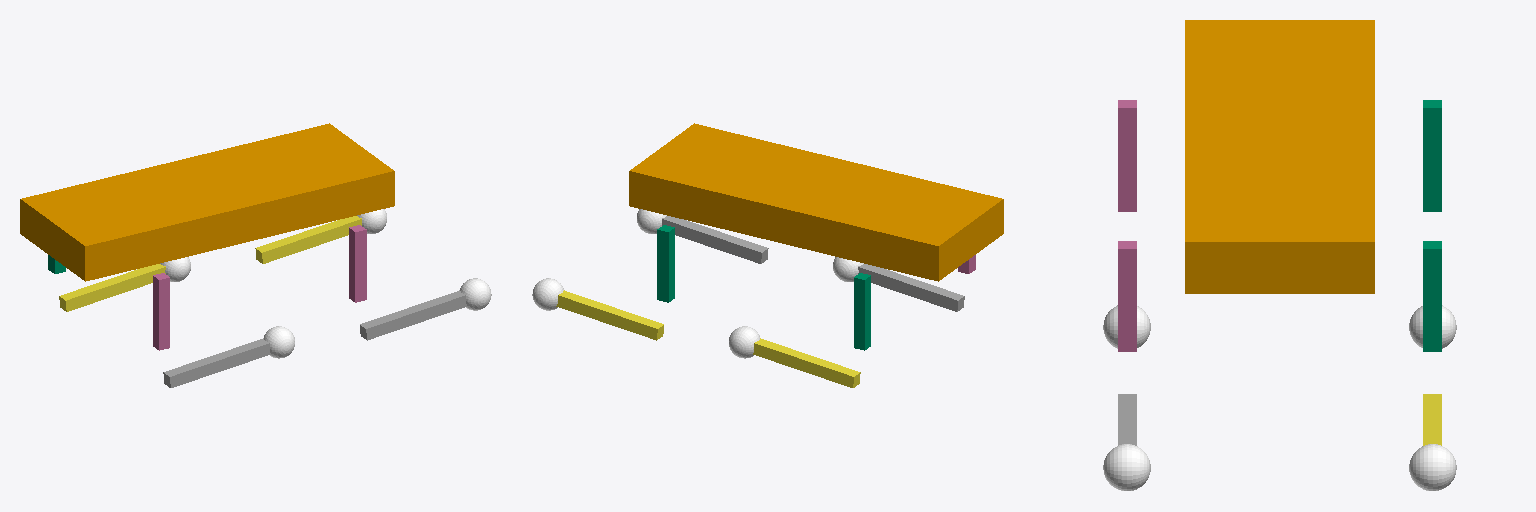
The robot description file, URDF, robot "Xiaoli":
<?xml version="1.0"?>  
<robot name="Xiaoli">   
  <link name="TORSO">  
    <inertial>
      <origin xyz="0 0 0" rpy="0 0 0" />
      <mass value="5.6056" /> 
      <inertia ixx="0.02456" ixy="0" ixz="0" iyy="0.05518" iyz="0" izz="0.07016" /> 
    </inertial> 
    <!-- <visual> 
      <origin xyz="0 0 0" rpy="-0 0 0" /> 
      <geometry> 
        <mesh filename="../meshes/torso.STL" /> 
      </geometry> 
      <material name=""> 
        <color rgba="1 1 1 1" /> 
      </material> 
    </visual>  -->
    <!-- <collision> 
      <origin xyz="0 0 0" rpy="0 0 0" /> 
      <geometry> 
        <mesh filename="../meshes/torso.STL" /> 
      </geometry> 
    </collision>  -->

    <visual>
      <geometry>
        <box size="0.55 0.2 0.06"/>
      </geometry>
      <origin xyz="0 0 0" rpy="0 0 0"/>
    </visual>
    <collision>
      <geometry>
        <box size="0.55 0.2 0.06"/>
      </geometry>
      <origin xyz="0 0 0" rpy="0 0 0"/>
    </collision>

  </link> 
  

 
  <link name="FL_HIP">  
    <inertial>
      <origin xyz="-0.010579    -0.011358    0.00048546" rpy="0 0 0" />
      <mass value="0.550" />
      <inertia ixx="0.0003949" ixy="0" ixz="0" iyy="0.0004028" iyz="0" izz="0.0004472" />
    </inertial>
    <!-- <visual>
      <origin xyz="0 0 0" rpy="0 0 0" />
      <geometry>
        <mesh filename="../meshes/fl_hip.STL" />
      </geometry>
      <material name="">
        <color rgba="1 1 1 1" />
      </material>
    </visual> -->
    <!-- <collision>
      <origin xyz="0 0 0" rpy="0 0 0" />
      <geometry>
        <mesh filename="../meshes/fl_hip.STL" />
      </geometry>
    </collision> -->
  </link>  
  
  <joint name="FL_HipX_joint" type="revolute">  
    <origin xyz="0.1745 0.062 0" />  
    <parent link="TORSO" />  
    <child link="FL_HIP" />  
    <axis xyz="-1 0 0" />  
    <dynamics damping="0.01" friction="0.03"/> 
    <limit lower="-0.48869" upper="0.48869" effort="20" velocity="30" />  
  </joint>  
  
  <link name="FL_THIGH">  
    <inertial>
      <origin xyz="-0.0052817 -0.014632 -0.042672" rpy="0 0 0" />
      <mass value="0.92" />
      <inertia ixx="0.006136" ixy="0" ixz="0" iyy="0.005306" iyz="0" izz="0.001536" />
    </inertial> 
    <!-- <visual>
      <origin xyz="0 0 0" rpy="0 0 0" />
      <geometry>
        <mesh filename="../meshes/fl_thigh.STL" />
      </geometry>
      <material name="">
        <color rgba="1 1 1 1" />
      </material>
    </visual> -->
    <!-- <collision>
      <origin xyz="0 0 0" rpy="0 0 0" />
      <geometry>
        <mesh filename="../meshes/fl_thigh.STL" />
      </geometry>
    </collision> -->
    <visual>
      <geometry>
        <box size="0.02 0.02 0.12"/>
      </geometry>
      <origin xyz="0 0 -0.08" rpy="0 0 0"/>
    </visual>
    <collision>
      <geometry>
        <box size="0.02 0.02 0.12"/>
      </geometry>
      <origin xyz="0 0 -0.08" rpy="0 0 0"/>
    </collision>
  </link>  
  
  <joint name="FL_HipY_joint" type="revolute">  
    <origin xyz="0 0.0985 0" />  
    <parent link="FL_HIP" />  
    <child link="FL_THIGH" />  
    <axis xyz="0 -1 0" />  
    <dynamics damping="0.01" friction="0.03"/> 
    <limit lower="-3.4907" upper="0.314" effort="20" velocity="30" />  
  </joint>  
  
  <link name="FL_SHANK">  
    <inertial>
      <origin xyz="0.0064794 -1.4535E-06 -0.12157" rpy="0 0 0" />
      <mass value="0.1729" />
      <inertia ixx="0.00089039" ixy="0"  ixz="0"  iyy="0.00090672" iyz="0" izz="3.1266E-05" />
    </inertial>
    <!-- <visual>  
    <origin rpy="0 0 0" xyz="0.0 0.0 0.0"/>  
      <geometry>  
        <mesh filename="../meshes/fl_shank_collision.obj" />  
      </geometry>  
    </visual> -->
    <!-- <collision>
      <origin xyz="0 0 0" rpy="0 0 0" />
      <geometry>
        <mesh filename="../meshes/fl_shank_collision.obj" />
      </geometry>
    </collision> -->

    <visual>
      <geometry>
        <box size="0.02 0.02 0.18"/>
      </geometry>
      <origin xyz="0 0 -0.1" rpy="0 0 0"/>
    </visual>
    <collision>
      <geometry>
        <box size="0.02 0.02 0.18"/>
      </geometry>
      <origin xyz="0 0 -0.1" rpy="0 0 0"/>
    </collision>
  </link>  
  
  <joint name="FL_Knee_joint" type="revolute">  
    <origin xyz="0 0 -0.20" />  
    <parent link="FL_THIGH" />  
    <child link="FL_SHANK" />  
    <axis xyz="0 -1 0" />  
    <dynamics damping="0.01" friction="0.03"/> 
    <limit lower="0.6021" upper="2.7227" effort="30" velocity="20" />  
  </joint>  
  
  <link name="FL_FOOT">  
    <inertial>  
      <mass value="0.06" /> 
      <inertia ixx="1E-12" ixy="0" ixz="0" iyy="1E-12" iyz="0" izz="1E-12" />  
    </inertial>  
    <collision>  
      <geometry>  
        <sphere radius="0.03"/>  
      </geometry>  
    </collision>  
        <visual>
      <origin rpy="1.57079632679 0 0" xyz="0 0 0"/>
      <geometry>
        <sphere radius="0.025"/>
      </geometry>
      <material name="">
        <color rgba="1 1 1 1" />
      </material>
    </visual>
  </link>  
  
  <joint name="FL_Ankle" type="fixed" dont_collapse="true">  
    <origin xyz="0 0 -0.21"/>  
    <parent link="FL_SHANK" />  
    <child link="FL_FOOT" />  
  </joint>  
  
  <link name="FR_HIP">  
    <inertial>
      <origin xyz="-0.010579 0.011358 0.00048546" rpy="0 0 0" />
      <mass value="0.550" />
      <inertia ixx="0.0003949" ixy="0" ixz="0" iyy="0.0004028" iyz="0" izz="0.0004472" />
    </inertial>
    <!-- <visual>
      <origin xyz="0 0 0" rpy="0 0 0" />
      <geometry>
        <mesh filename="../meshes/fr_hip.STL" />
      </geometry>
      <material name="">
        <color rgba="1 1 1 1" />
      </material>
    </visual> -->
    <!-- <collision>
      <origin xyz="0 0 0" rpy="0 0 0" />
      <geometry>
        <mesh filename="../meshes/fr_hip.STL" />
      </geometry>
    </collision> -->
  </link>  
  
  <joint name="FR_HipX_joint" type="revolute">  
    <origin xyz="0.1745 -0.062 0" />  
    <parent link="TORSO" />  
    <child link="FR_HIP" />  
    <axis xyz="-1 0 0" />  
    <dynamics damping="0.01" friction="0.03"/> 
    <limit lower="-0.48869" upper="0.48869" effort="20" velocity="30" />  
  </joint>  
  
  <link name="FR_THIGH">  
    <inertial>
      <origin xyz="-0.0039245 0.025256 -0.025146" rpy="0 0 0" />
      <mass value="0.92"/>
      <!-- inertia ixx="0.00433" ixy="0.00001" ixz="0.00034" iyy="0.00403"  iyz="-0.0000186" izz="0.00143" -->
      <inertia ixx="0.006136" ixy="0" ixz="0" iyy="0.005306" iyz="0" izz="0.001536" />
    </inertial>
    <!-- <visual>
      <origin xyz="0 0 0" rpy="0 0 0" />
      <geometry>
        <mesh filename="../meshes/fr_thigh.STL" />
      </geometry>
      <material name="">
        <color rgba="1 1 1 1" />
      </material>
    </visual> -->
    <!-- <collision>
      <origin xyz="0 0 0" rpy="0 0 0" />
      <geometry>
        <mesh filename="../meshes/fr_thigh.STL" />
      </geometry>
    </collision> -->
    <visual>
      <geometry>
        <box size="0.02 0.02 0.12"/>
      </geometry>
      <origin xyz="0 0 -0.08" rpy="0 0 0"/>
    </visual>
    <collision>
      <geometry>
        <box size="0.02 0.02 0.12"/>
      </geometry>
      <origin xyz="0 0 -0.08" rpy="0 0 0"/>
    </collision>

  </link>  
  
  <joint name="FR_HipY_joint" type="revolute">  
    <origin xyz="0 -0.0985 0" />  
    <parent link="FR_HIP" />  
    <child link="FR_THIGH" />  
    <axis xyz="0 -1 0" />  
    <dynamics damping="0.01" friction="0.03"/> 
    <limit lower="-3.4907" upper="0.314" effort="20" velocity="30" />  
  </joint>  
  
  <link name="FR_SHANK">  
    <inertial>
      <origin xyz="0.0064794 -1.4552E-06 -0.12157" rpy="0 0 0" />
      <mass value="0.1729" />
      <inertia ixx="0.00089039" ixy="0"  ixz="0"  iyy="0.00090672" iyz="0" izz="3.1266E-05" />
    </inertial>
    <!-- <visual>
      <origin xyz="0 0 0" rpy="0 0 0" />
      <geometry>
        <mesh filename="../meshes/fr_shank_collision.obj" />
      </geometry>
      <material name="">
        <color rgba="1 1 1 1" />
      </material>
    </visual> -->
    <!-- <collision>
      <origin xyz="0 0 0" rpy="0 0 0" />
      <geometry>
        <mesh filename="../meshes/fr_shank_collision.obj" />
      </geometry>
    </collision> -->

    <visual>
      <geometry>
        <box size="0.02 0.02 0.18"/>
      </geometry>
      <origin xyz="0 0 -0.1" rpy="0 0 0"/>
    </visual>
    <collision>
      <geometry>
        <box size="0.02 0.02 0.18"/>
      </geometry>
      <origin xyz="0 0 -0.1" rpy="0 0 0"/>
    </collision>
  </link>  
  
  <joint name="FR_Knee_joint" type="revolute">  
    <origin xyz="0 0 -0.20" />  
    <parent link="FR_THIGH" />  
    <child link="FR_SHANK" />  
    <axis xyz="0 -1 0" />  
    <dynamics damping="0.01" friction="0.03"/> 
    <limit lower="0.6021" upper="2.7227" effort="30" velocity="20" />  
  </joint>  
  
  <link name="FR_FOOT">  
    <inertial>  
      <mass value="0.06" /> 
      <inertia ixx="1E-12" ixy="0" ixz="0" iyy="1E-12" iyz="0" izz="1E-12" />  
    </inertial>  
    <collision>  
      <geometry>  
        <sphere radius="0.03"/>  
      </geometry>  
    </collision>  
    <visual>
      <origin rpy="1.57079632679 0 0" xyz="0 0 0"/>
      <geometry>
        <sphere radius="0.025"/>
      </geometry>
      <material name="">
        <color rgba="1 1 1 1" />
      </material>
    </visual>
  </link>  
  
  <joint name="FR_Ankle" type="fixed" dont_collapse="true">  
    <origin xyz="0 0 -0.21"/>  
    <parent link="FR_SHANK" />  
    <child link="FR_FOOT" />  
  </joint>  
  
  <link name="HL_HIP">  
    <inertial>
      <origin xyz="0.010905 -0.012636 0.001051" rpy="0 0 0" />
      <mass value="0.550" />
      <inertia ixx="0.0003949" ixy="0" ixz="0" iyy="0.0004028" iyz="0" izz="0.0004472" />
    </inertial>
    <!-- <visual>
      <origin xyz="0 0 0" rpy="0 0 0" />
      <geometry>
        <mesh filename="../meshes/hl_hip.STL" />
      </geometry>
      <material name="">
        <color rgba="1 1 1 1" />
      </material>
    </visual> -->
    <!-- <collision>
      <origin xyz="0 0 0" rpy="0 0 0" />
      <geometry>
        <mesh filename="../meshes/hl_hip.STL" />
      </geometry>
    </collision>  -->
  </link>  
  
  <joint name="HL_HipX_joint" type="revolute">  
    <origin xyz="-0.1745 0.062 0" />  
    <parent link="TORSO" />  
    <child link="HL_HIP" />  
    <axis xyz="-1 0 0" />  
    <dynamics damping="0.01" friction="0.03"/> 
    <limit lower="-0.48869" upper="0.48869" effort="20" velocity="30" />  
  </joint>  
  
  <link name="HL_THIGH">  
    <inertial>
      <origin xyz="-0.0057137 -0.014631 -0.042453" rpy="0 0 0" />
      <mass value="0.92" />
      <inertia ixx="0.006136" ixy="0" ixz="0" iyy="0.005306" iyz="0" izz="0.001536" />
    </inertial>
    <!-- <visual>
      <origin xyz="0 0 0" rpy="0 0 0" />
      <geometry>
        <mesh filename="../meshes/hl_thigh.STL" />
      </geometry>
      <material name="">
        <color rgba="1 1 1 1" />
      </material>
    </visual> -->
    <!-- <collision>
      <origin xyz="0 0 0" rpy="0 0 0" />
      <geometry>
        <mesh filename="../meshes/hl_thigh.+" />
      </geometry>
    </collision>  -->
    <visual>
      <geometry>
        <box size="0.02 0.02 0.12"/>
      </geometry>
      <origin xyz="0 0 -0.08" rpy="0 0 0"/>
    </visual>
    <collision>
      <geometry>
        <box size="0.02 0.02 0.12"/>
      </geometry>
      <origin xyz="0 0 -0.08" rpy="0 0 0"/>
    </collision>

  </link>  
  
  <joint name="HL_HipY_joint" type="revolute">  
    <origin xyz="0 0.0985 0" />  
    <parent link="HL_HIP" />  
    <child link="HL_THIGH" />  
    <axis xyz="0 -1 0" />  
    <dynamics damping="0.01" friction="0.03"/> 
    <limit lower="-3.4907" upper="0.314" effort="20" velocity="30" />  
  </joint>  
  
  <link name="HL_SHANK">  
    <inertial>
      <origin xyz="0.0064794 -1.4558E-06 -0.12157" rpy="0 0 0" />
      <mass value="0.1729" />
      <inertia ixx="0.00089039" ixy="0"  ixz="0"  iyy="0.00090672" iyz="0" izz="3.1266E-05" />
    </inertial>
    <!-- <visual>
      <origin xyz="0 0 0" rpy="0 0 0" />
      <geometry>
        <mesh filename="../meshes/hl_shank_collision.obj" />
      </geometry>
      <material name="">
        <color rgba="1 1 1 1" />
      </material>
    </visual> -->
    <!-- <collision>
      <origin xyz="0 0 0" rpy="0 0 0" />
      <geometry>
        <mesh filename="../meshes/hl_shank_collision.obj" />
      </geometry>
    </collision> -->
    <visual>
      <geometry>
        <box size="0.02 0.02 0.18"/>
      </geometry>
      <origin xyz="0 0 -0.1" rpy="0 0 0"/>
    </visual>
    <collision>
      <geometry>
        <box size="0.02 0.02 0.18"/>
      </geometry>
      <origin xyz="0 0 -0.1" rpy="0 0 0"/>
    </collision>
  </link>  
  
  <joint name="HL_Knee_joint" type="revolute">  
    <origin xyz="0 0 -0.20" />  
    <parent link="HL_THIGH" />  
    <child link="HL_SHANK" />  
    <axis xyz="0 -1 0" />  
    <dynamics damping="0.01" friction="0.03"/> 
    <limit lower="0.6021" upper="2.7227" effort="30" velocity="20" />  
  </joint>  
  
  <link name="HL_FOOT">  
    <inertial>  
      <mass value="0.06" />  
      <inertia ixx="1E-12" ixy="0" ixz="0" iyy="1E-12" iyz="0" izz="1E-12" />  
    </inertial>  
    <collision>  
      <geometry>  
        <sphere radius="0.03"/>  
      </geometry>  
    </collision>  
      <visual>
      <origin rpy="1.57079632679 0 0" xyz="0 0 0"/>
      <geometry>
        <sphere radius="0.025"/>
      </geometry>
      <material name="">
        <color rgba="1 1 1 1" />
      </material>
    </visual>
  </link>  
  
  <joint name="HL_Ankle" type="fixed" dont_collapse="true">  
    <origin xyz="0 0 -0.21"/>  
    <parent link="HL_SHANK" />  
    <child link="HL_FOOT" />  
  </joint>  
  
  <link name="HR_HIP">  
    <inertial>
      <origin xyz="0.010354 0.011423 0.00049498" rpy="0 0 0" />
      <mass value="0.550" />
      <inertia ixx="0.0003949" ixy="0" ixz="0" iyy="0.0004028" iyz="0" izz="0.0004472" />
    </inertial>
    <!-- <visual>
      <origin xyz="0 0 0" rpy="0 0 0" />
      <geometry>
        <mesh filename="../meshes/hr_hip.STL" />
      </geometry>
      <material name="">
        <color rgba="1 1 1 1" />
      </material>
    </visual> -->
    <!-- <collision>
      <origin xyz="0 0 0" rpy="0 0 0" />
      <geometry>
        <mesh filename="../meshes/hr_hip.STL" />
      </geometry>
    </collision> -->
  </link>  
  
  <joint name="HR_HipX_joint" type="revolute">  
    <origin xyz="-0.1745 -0.062 0" />  
    <parent link="TORSO" />  
    <child link="HR_HIP" />  
    <axis xyz="-1 0 0" />  
    <dynamics damping="0.01" friction="0.03"/> 
    <limit lower="-0.48869" upper="0.48869" effort="20" velocity="30" />  
  </joint>  
  
  <link name="HR_THIGH">  
    <inertial>
      <origin xyz="-0.0031903 0.02526 -0.025617" rpy="0 0 0" />
      <mass value="0.92"/>
      <inertia ixx="0.006136" ixy="0" ixz="0" iyy="0.005306" iyz="0" izz="0.001536" />
    </inertial> 
    <!-- <visual>
      <origin xyz="0 0 0" rpy="0 0 0" />
      <geometry>
        <mesh filename="../meshes/hr_thigh.STL" />
      </geometry>
      <material name="">
        <color rgba="1 1 1 1" />
      </material>
    </visual> -->
    <!-- <collision>
      <origin xyz="0 0 0" rpy="0 0 0" />
      <geometry>
        <mesh filename="../meshes/hr_thigh.STL" />
      </geometry>
    </collision> -->

    <visual>
      <geometry>
        <box size="0.02 0.02 0.12"/>
      </geometry>
      <origin xyz="0 0 -0.08" rpy="0 0 0"/>
    </visual>
    <collision>
      <geometry>
        <box size="0.02 0.02 0.12"/>
      </geometry>
      <origin xyz="0 0 -0.08" rpy="0 0 0"/>
    </collision>

  </link>  
  
  <joint name="HR_HipY_joint" type="revolute">  
    <origin xyz="0 -0.0985 0" />  
    <parent link="HR_HIP" />  
    <child link="HR_THIGH" />  
    <axis xyz="0 -1 0" />  
    <dynamics damping="0.01" friction="0.03"/> 
    <limit lower="-3.4907" upper="0.314" effort="20" velocity="30" />  
  </joint>  
  
  <link name="HR_SHANK">  
    <inertial>
      <origin xyz="0.0064794 -1.4529E-06 -0.12157" rpy="0 0 0" />
      <mass value="0.1729" />
      <inertia ixx="0.00089039" ixy="0"  ixz="0"  iyy="0.00090672" iyz="0" izz="3.1266E-05" />
    </inertial>  
    <!-- <visual>
      <origin xyz="0 0 0" rpy="0 0 0" />
      <geometry>
        <mesh filename="../meshes/hr_shank_collision.obj" />
      </geometry>
      <material name="">
        <color rgba="1 1 1 1" />
      </material>
    </visual> -->
    <!-- <collision>
      <origin xyz="0 0 0" rpy="0 0 0" />
      <geometry>
        <mesh filename="../meshes/hr_shank_collision.obj" />
      </geometry>
    </collision>  -->
    <visual>
      <geometry>
        <box size="0.02 0.02 0.18"/>
      </geometry>
      <origin xyz="0 0 -0.1" rpy="0 0 0"/>
    </visual>
    <collision>
      <geometry>
        <box size="0.02 0.02 0.18"/>
      </geometry>
      <origin xyz="0 0 -0.1" rpy="0 0 0"/>
    </collision>
  </link>  
  
  <joint name="HR_Knee_joint" type="revolute">  
    <origin xyz="0 0 -0.20" />  
    <parent link="HR_THIGH" />  
    <child link="HR_SHANK" />  
    <axis xyz="0 -1 0" />  
    <dynamics damping="0.01" friction="0.03"/> 
    <limit lower="0.6021" upper="2.7227" effort="30" velocity="20" />  
  </joint>  
  
  <link name="HR_FOOT">  
    <inertial>  
      <mass value="0.06" /> 
      <inertia ixx="1E-12" ixy="0" ixz="0" iyy="1E-12" iyz="0" izz="1E-12" />  
    </inertial>  
    <collision>  
      <geometry>  
        <sphere radius="0.03"/>  
      </geometry>  
    </collision>  
      <visual>
      <origin rpy="1.57079632679 0 0" xyz="0 0 0"/>
      <geometry>
        <sphere radius="0.025"/>
      </geometry>
      <material name="">
        <color rgba="1 1 1 1" />
      </material>
    </visual>
  </link>  
  
  <joint name="HR_Ankle" type="fixed" dont_collapse="true">  
    <origin xyz="0 0 -0.21"/>  
    <parent link="HR_SHANK" />  
    <child link="HR_FOOT" />  
  </joint>  
  
</robot>  

--- What the picture shows (computed from the rendered views, not written in the file) ---
3 views of the same robot in one strip: view 1: azimuth 30°, elevation 25°; view 2: azimuth 150°, elevation 25°; view 3: azimuth 270°, elevation 25° (orthographic).
Robot: Xiaoli — 17 links, 16 joints (12 revolute, 4 fixed); root link TORSO; default pose: all joints at 0 but 4 set to mid-range because 0 is outside their limits (FL_Knee_joint = 1.66, FR_Knee_joint = 1.66, HL_Knee_joint = 1.66, HR_Knee_joint = 1.66).
Links seen in each view (by area): view 1: TORSO, HR_SHANK, FR_SHANK, HL_SHANK, FL_SHANK, FR_THIGH, HR_THIGH, HR_FOOT, FR_FOOT; view 2: TORSO, HL_SHANK, FL_SHANK, HR_SHANK, FR_SHANK, FL_THIGH, HL_THIGH, HL_FOOT, FL_FOOT; view 3: TORSO, HL_THIGH, HR_THIGH, FL_THIGH, FR_THIGH, FL_FOOT, FR_FOOT, FL_SHANK, FR_SHANK, HL_FOOT, HR_FOOT.
Boxes of the visible links, x1,y1,x2,y2 form: TORSO: (20,123,394,281); HR_SHANK: (163,338,270,387); FR_SHANK: (360,290,467,340); HL_SHANK: (59,264,165,311); FL_SHANK: (255,216,361,263); FR_THIGH: (349,225,366,302); HR_THIGH: (153,273,169,350); HR_FOOT: (264,326,294,358); FR_FOOT: (460,278,491,310); TORSO: (629,123,1003,281); HL_SHANK: (753,338,860,387); FL_SHANK: (556,290,663,340); HR_SHANK: (858,264,964,311); FR_SHANK: (662,216,768,263); FL_THIGH: (657,225,674,302); HL_THIGH: (854,273,870,350); HL_FOOT: (729,326,759,358); FL_FOOT: (532,278,563,310); TORSO: (1185,20,1374,293); HL_THIGH: (1423,100,1441,211); HR_THIGH: (1118,100,1136,211); FL_THIGH: (1423,241,1441,351); FR_THIGH: (1118,241,1136,351); FL_FOOT: (1409,444,1456,490); FR_FOOT: (1103,444,1150,490); FL_SHANK: (1423,394,1441,445); FR_SHANK: (1118,394,1136,445); HL_FOOT: (1409,305,1456,348); HR_FOOT: (1103,305,1150,348).
Bounding box of the posed robot: 0.6835 × 0.371 × 0.239 m (x, y, z).
Geometry: primitives only (box / cylinder / sphere), no mesh files.
